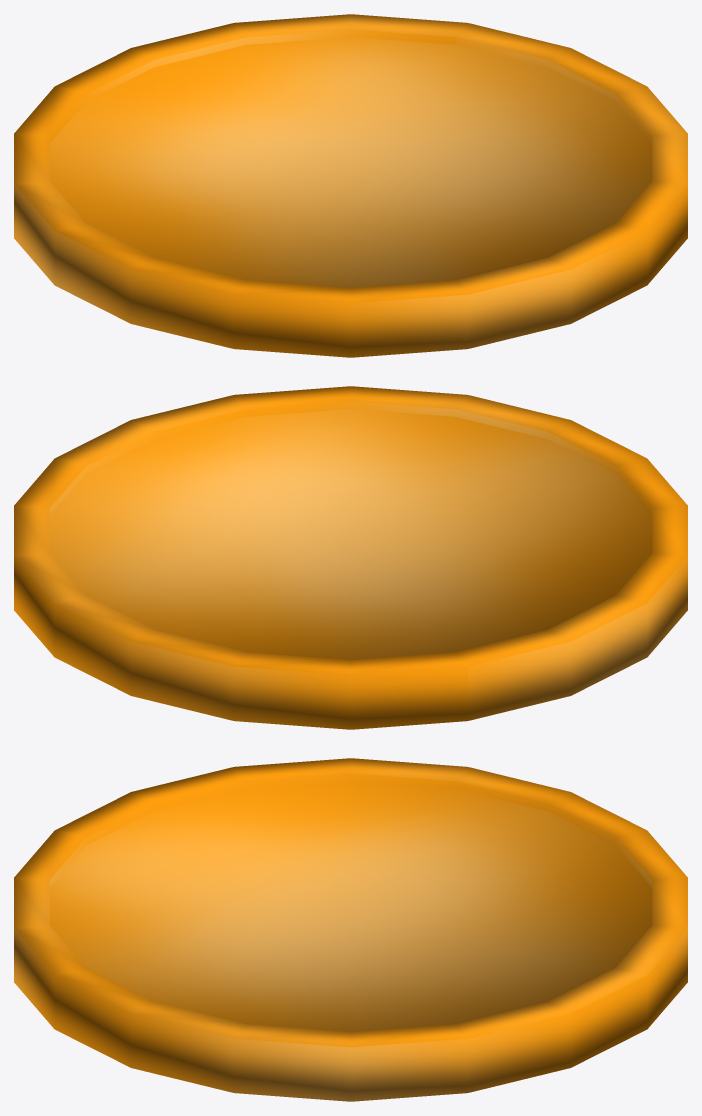
The model's file is Moneda01.FBX.
3 views of the same model, one above another, from view 1: azimuth 30°, elevation 25°; view 2: azimuth 150°, elevation 25°; view 3: azimuth 270°, elevation 25° (orthographic).
Parts seen in each view (by area): view 1: Cylinder007; view 2: Cylinder007; view 3: Cylinder007.
Boxes of the visible parts, x1,y1,x2,y2 form: Cylinder007: [14, 14, 687, 357]; Cylinder007: [14, 386, 687, 729]; Cylinder007: [14, 758, 687, 1101].
Size of the model in its own units: 10.26 by 0.9 by 10.11.
Materials: 1 (1 with a texture image).
